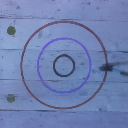Axe Tip: (103, 64, 114, 68)
